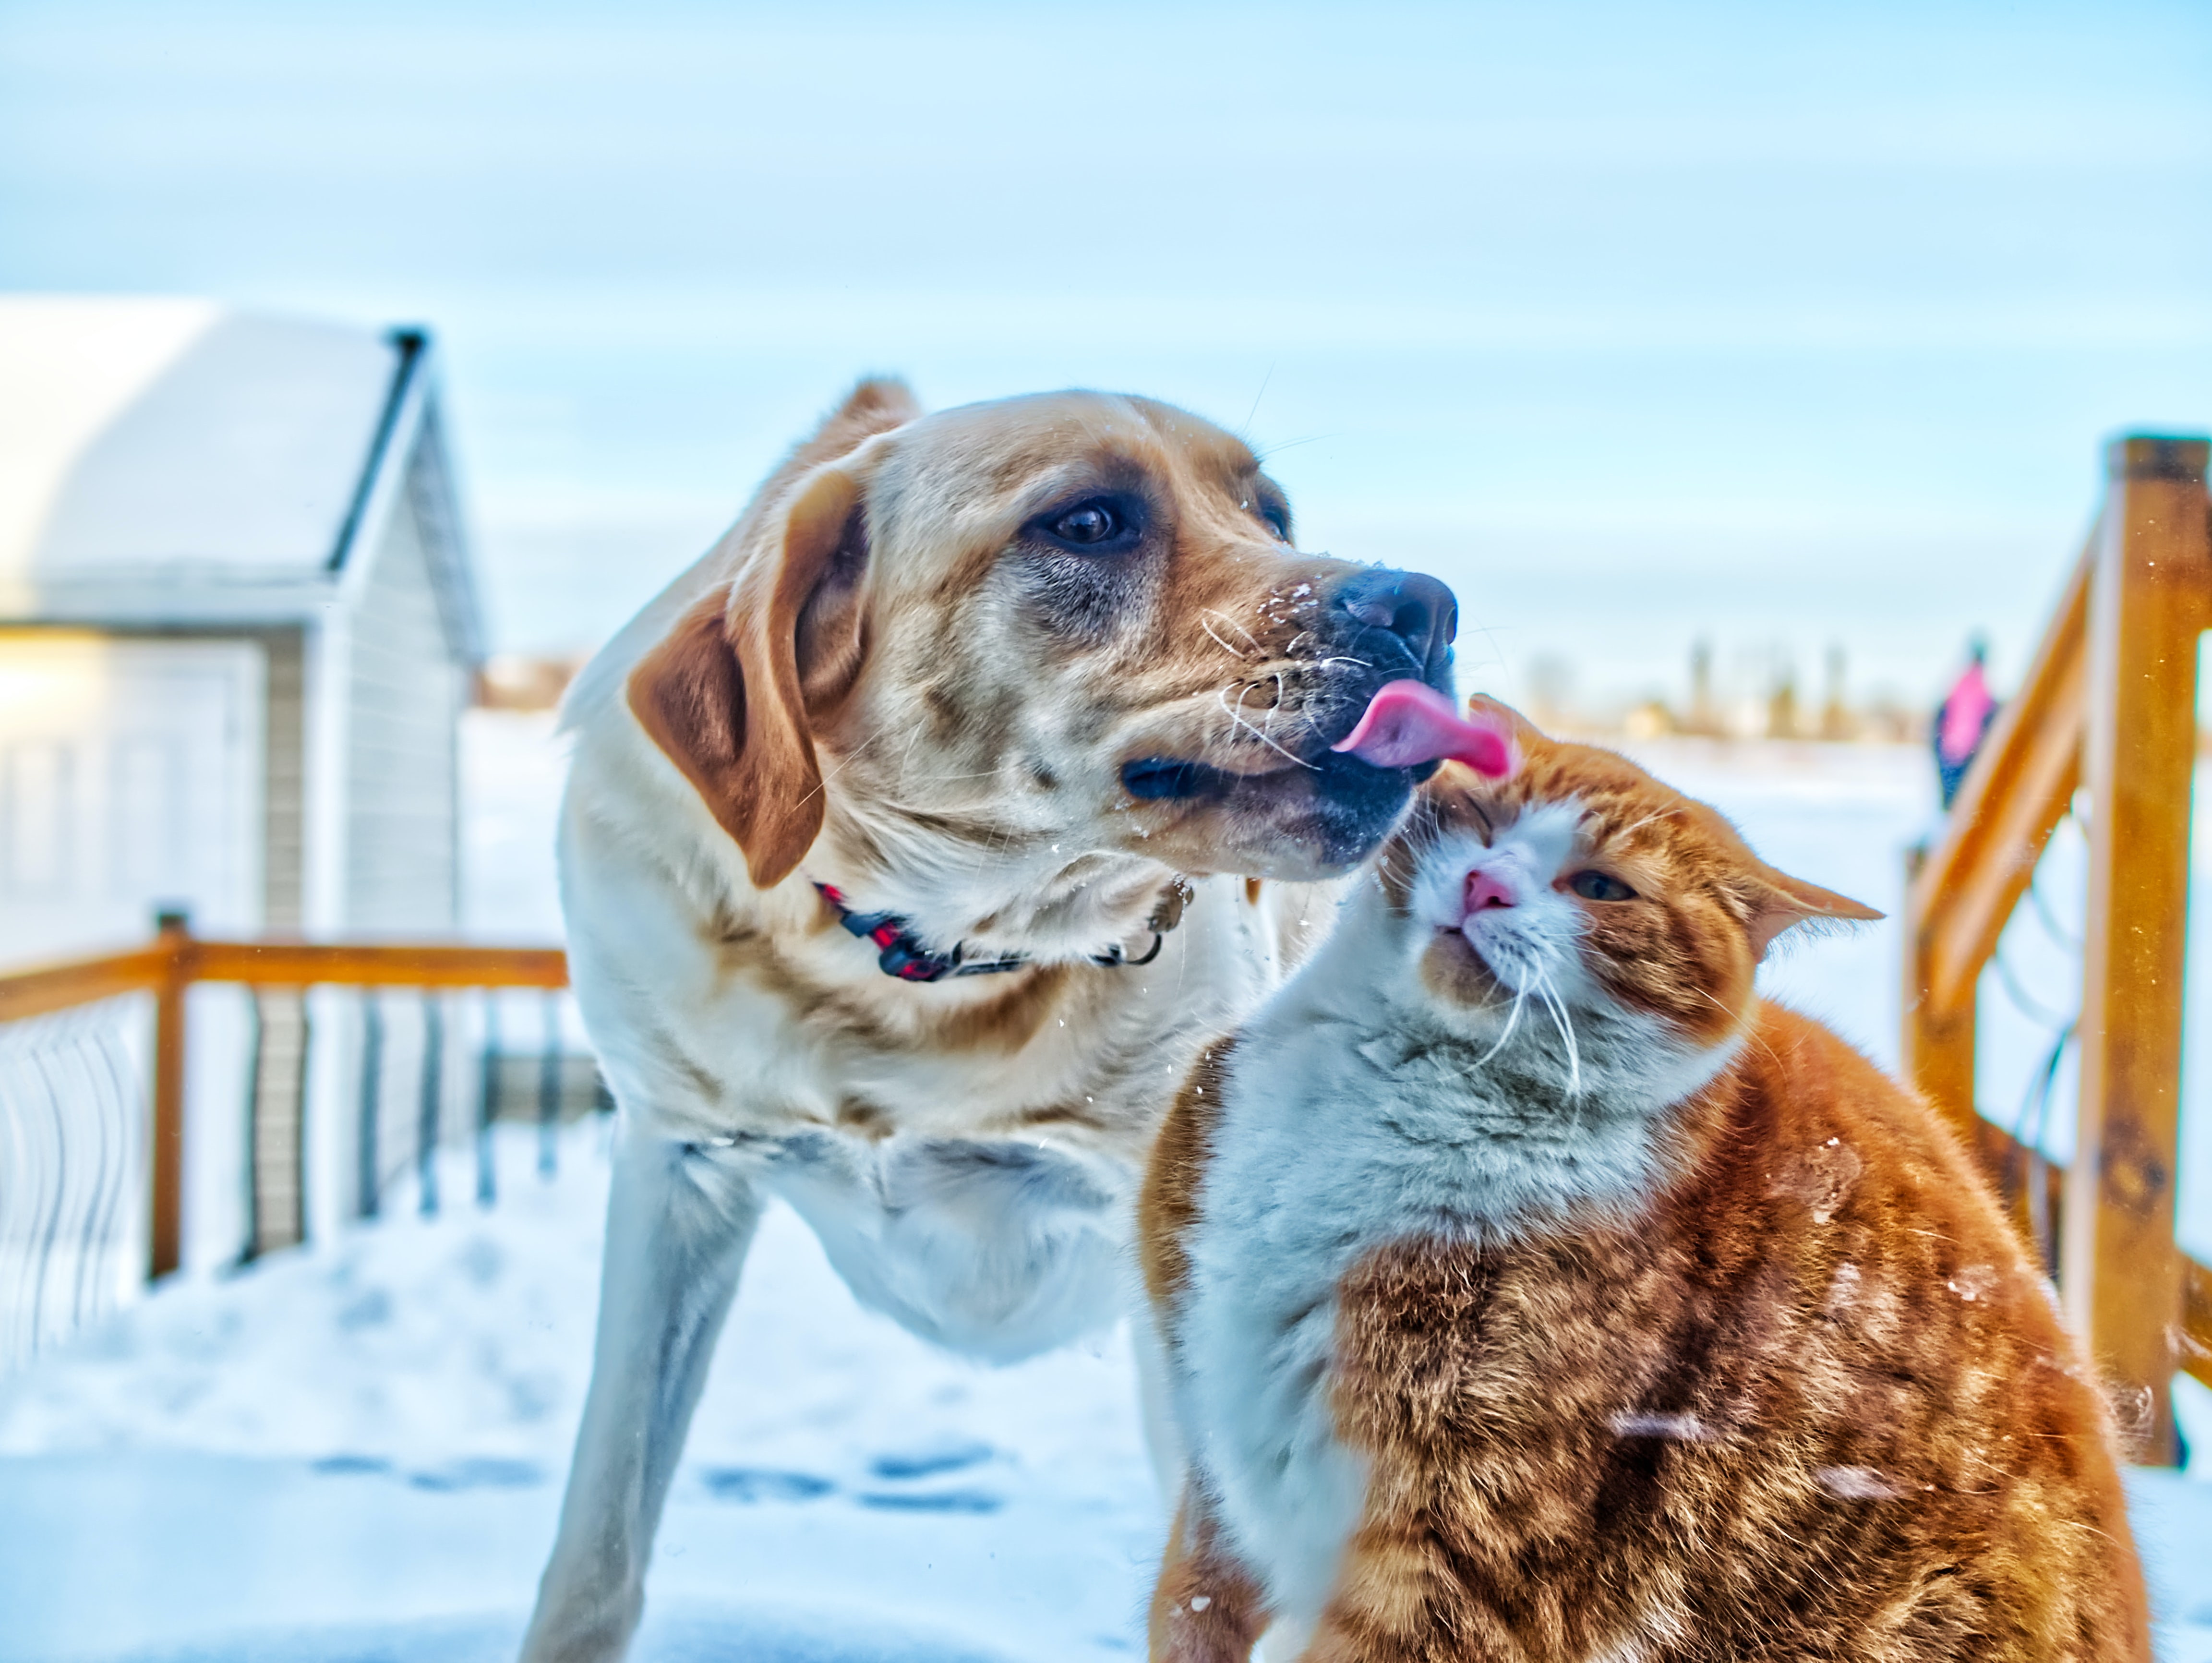cat: (1334, 702, 1866, 1106)
dog: (702, 379, 1451, 886)
